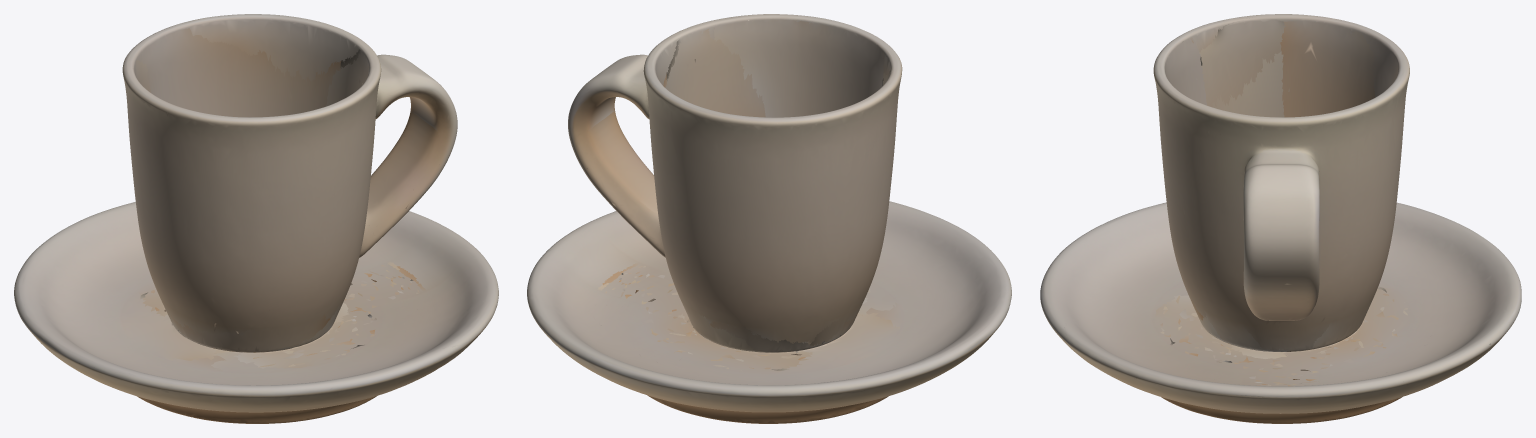
Rendered from foodify-mug-s30x013.glb.
3 renders of one model, left to right at view 1: azimuth 30°, elevation 25°; view 2: azimuth 150°, elevation 25°; view 3: azimuth 270°, elevation 25°, orthographic.
Visible parts, largest first — view 1: texture_pbr_v128; view 2: texture_pbr_v128; view 3: texture_pbr_v128.
Part boxes in pixels (box(x1,y1,x2,y2)): texture_pbr_v128: box(14, 14, 498, 423); texture_pbr_v128: box(527, 14, 1011, 423); texture_pbr_v128: box(1040, 14, 1521, 423).
Bounding box in the file's own units: 0.1458 × 0.0991 × 0.1458.
Materials: 1 (1 with a texture image).
